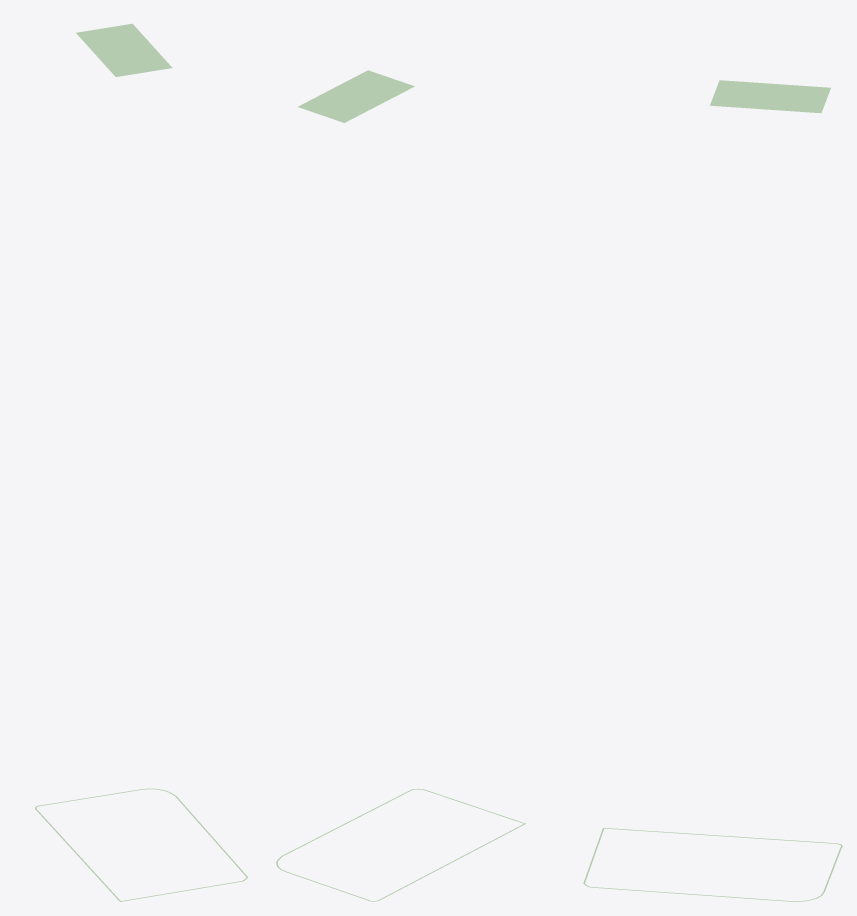
Rendered from tile2.glb.
3 views of the same model, side by side, from view 1: azimuth 30°, elevation 25°; view 2: azimuth 150°, elevation 25°; view 3: azimuth 270°, elevation 25° (orthographic).
Bounding box in the file's own units: 31.82 × 137 × 40.25.
